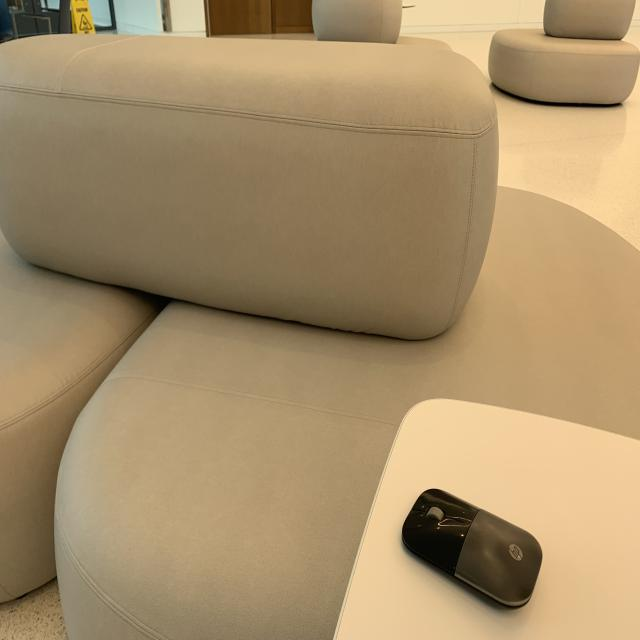Mouse: (397, 480, 545, 614)
